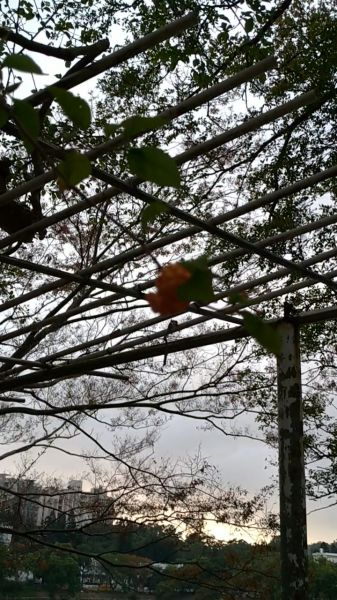eggs: (142, 266, 199, 320)
